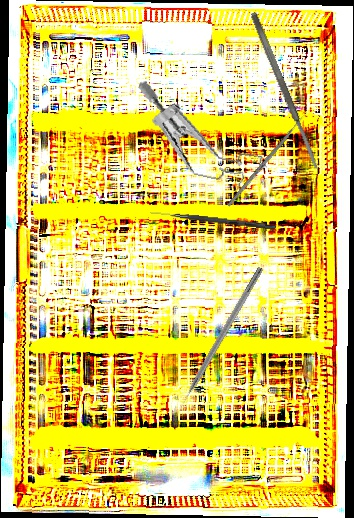Hook Surgical: (171, 265, 265, 418), (150, 210, 276, 230)
Pusher: (226, 108, 311, 208)
Spatula Surgical: (248, 11, 322, 172)
Speculum: (121, 78, 280, 194)
